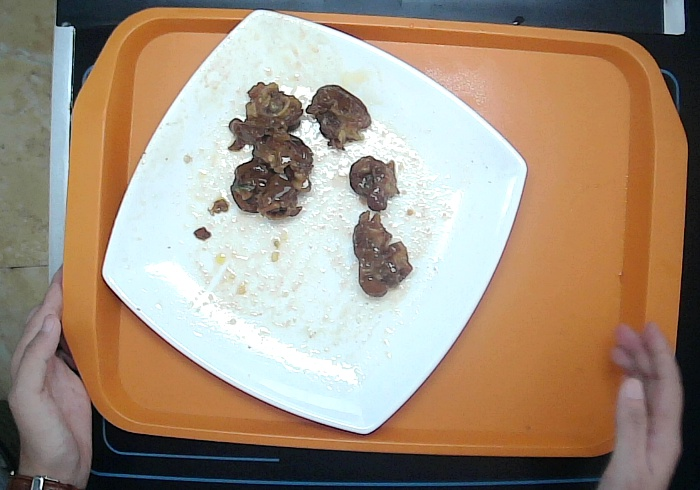ZNLD-Bai_Fang_Pan: (102, 9, 528, 434)
